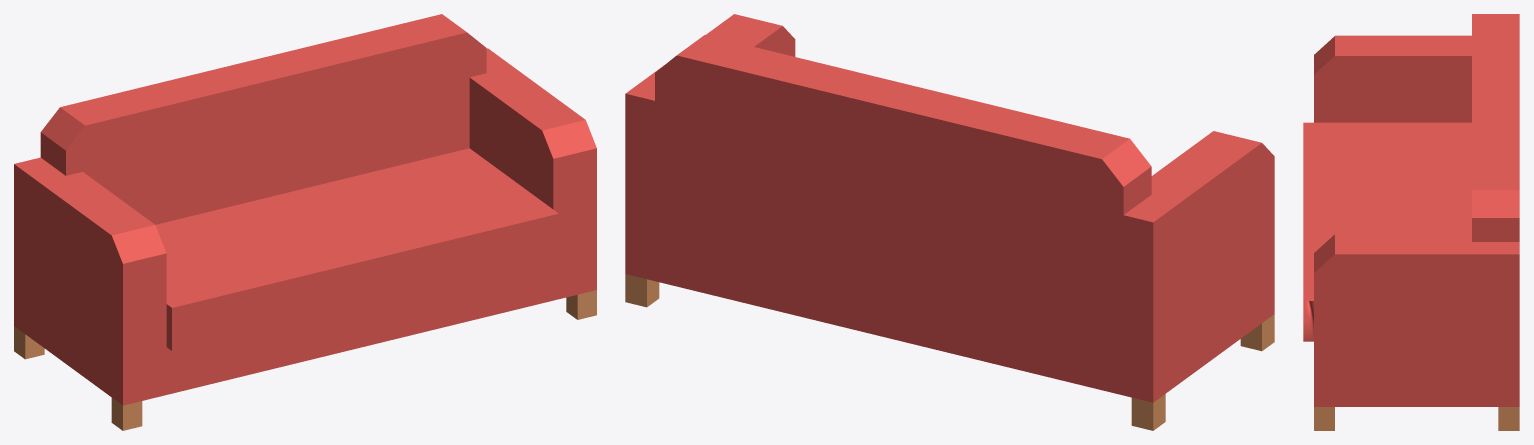
File: loungeSofa.obj
3 renders of one model, left to right at view 1: azimuth 30°, elevation 25°; view 2: azimuth 150°, elevation 25°; view 3: azimuth 270°, elevation 25°, orthographic. The views are drawn at different scales.
Visible parts, largest first — view 1: loungeSofa; view 2: loungeSofa; view 3: loungeSofa.
Part boxes in pixels (bbox=[...]): loungeSofa: bbox=[14, 14, 596, 430]; loungeSofa: bbox=[625, 14, 1274, 430]; loungeSofa: bbox=[1303, 14, 1519, 430].
Size of the model in its own units: 2.94 by 1.38 by 1.23.
